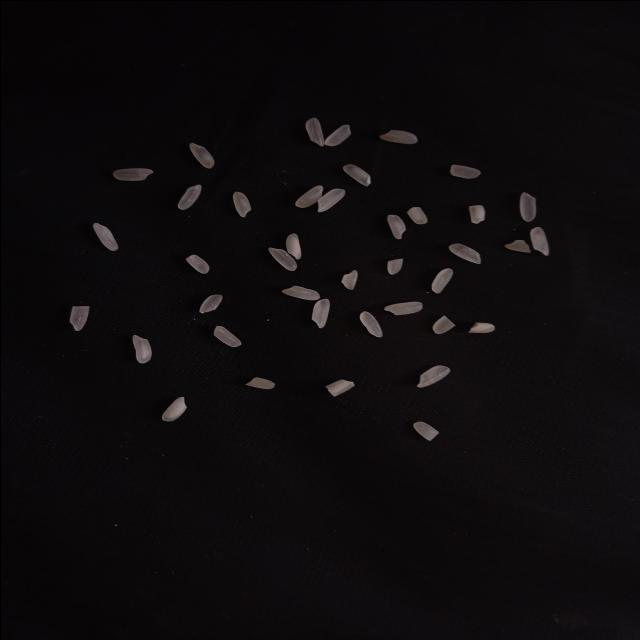Broken: (212, 324, 240, 346), (324, 378, 354, 396), (412, 420, 438, 440), (68, 304, 88, 330), (198, 293, 222, 313), (184, 254, 208, 274), (244, 376, 276, 390), (432, 314, 454, 334), (449, 164, 480, 178), (504, 238, 530, 252), (408, 206, 428, 223), (467, 321, 494, 333), (341, 269, 357, 289), (468, 204, 484, 223), (387, 258, 402, 274)
Full: (416, 364, 450, 387), (446, 242, 481, 264), (91, 222, 118, 250), (316, 188, 346, 212), (188, 142, 214, 168), (176, 183, 202, 209), (268, 246, 296, 270), (358, 310, 382, 337), (342, 163, 370, 186), (294, 185, 322, 208), (378, 128, 418, 144), (162, 395, 186, 421), (429, 267, 453, 293), (304, 116, 324, 146), (281, 284, 321, 299), (132, 333, 152, 362), (324, 123, 350, 145), (383, 301, 422, 315), (311, 298, 329, 328), (231, 190, 251, 217), (519, 190, 536, 220), (386, 212, 405, 238), (111, 168, 152, 180), (530, 227, 548, 254), (284, 233, 300, 260)
